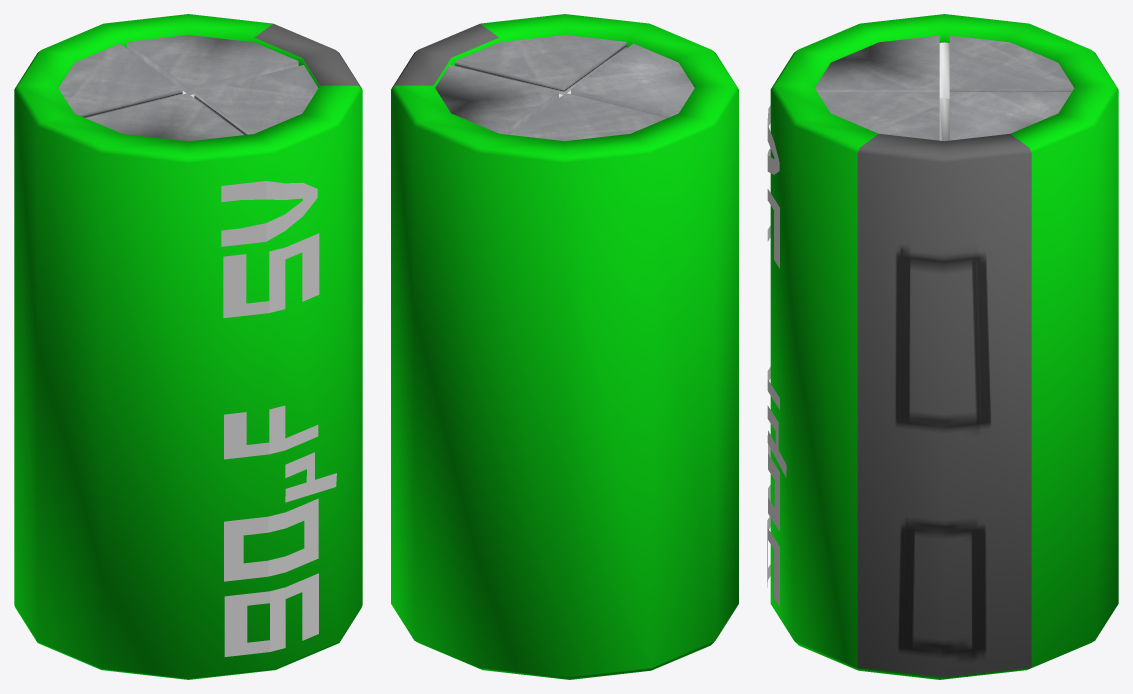
File: kondensator_zielony.fbx
3 renders of one model, left to right at view 1: azimuth 30°, elevation 25°; view 2: azimuth 150°, elevation 25°; view 3: azimuth 270°, elevation 25°, orthographic.
Parts seen in each view (by area): view 1: Kondensator_zielony; view 2: Kondensator_zielony; view 3: Kondensator_zielony.
Boxes of the visible parts, x1,y1,x2,y2 form: Kondensator_zielony: (14,14,362,679); Kondensator_zielony: (391,14,738,679); Kondensator_zielony: (767,14,1118,679).
Bounding box in the file's own units: 200 × 331 × 202.
